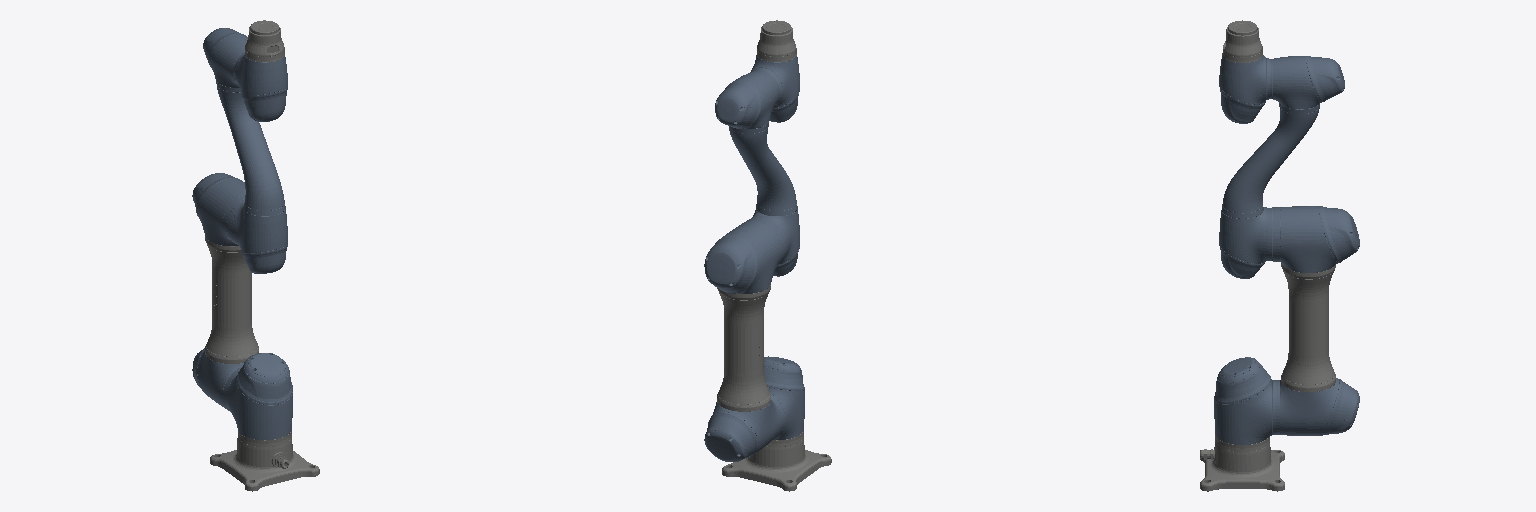
The robot description file, URDF, robot "a0509":
<?xml version="1.0"?>

<robot name="a0509" xmlns:xacro="http://www.ros.org/wiki/xacro">
	<link name="base_0">
		<inertial>
			<mass value="2.198"/>
			<origin xyz="-1e-06   -0.001096    0.058957"/>
			<inertia ixx="0.010511" ixy="4.9786e-06" ixz="7.1839e-06" iyy="0.012033"
				iyz="-2.3529e-05"
				izz="0.012481"/>
		</inertial>
		<visual>
			<origin rpy="0 0 0" xyz="0 0 0" />
			<geometry>
				<mesh filename="meshes/a0509_blue/A0509_0_0.stl" scale="0.001 0.001 0.001" />
			</geometry>
			<material name="dr_gray">
				<color rgba="0.490 0.490 0.486 1.0"/>
			</material>
		</visual>
	</link>

  	<link name="doosan_pedestal">
    	<visual>
      		<origin rpy="1.57079632679 0 -1.57079632679" xyz="0.26 0.345 -0.91488"/>
      		<geometry>
        		<mesh filename="meshes/doosan_pedestal/pedestal.STL"/>
      		</geometry>
      		<material name="darkgray">
        		<color rgba=".2 .2 .2 1"/>
      		</material>
    	</visual>
    	<collision>
      		<origin rpy="0 0 0" xyz="-0.02 0 -0.29"/>
			<geometry>
      		  	<cylinder length="0.62" radius="0.18"/>
      		</geometry>
    	</collision>
    	<inertial>
      		<origin rpy="0 0 0" xyz="0 0 -0.5"/>
      		<mass value="60.86397744"/>
      		<inertia ixx="5.0635929" ixy="0.00103417" ixz="0.80199628" iyy="6.08689388" iyz="0.00105311" izz="4.96191932"/>
		</inertial>
  	</link>

	<joint name="doosan_pedestal_fixed" type="fixed">
		<origin rpy="0 0 0" xyz="0.0 0.0 0.0"/>
		<parent link="base_0"/>
		<child link="doosan_pedestal"/>
	</joint>  

	<link name="doosan_controller_box">
		<collision>
		<origin rpy="0 0 0" xyz="-0.325 0 -0.38"/>
		<geometry>
			<box size="0.22 0.4 0.53"/>
		</geometry>
		</collision>
	</link>

	<joint name="doosan_controller_box_fixed" type="fixed">
		<origin rpy="0 0 0" xyz="0.0 0.0 0.0"/>
		<parent link="base_0"/>
		<child link="doosan_controller_box"/>
	</joint>

	<link name="doosan_pedestal_feet">
		<collision>
		<origin rpy="0 0 0" xyz="-0.1225 0 -0.758"/>
		<geometry>
			<box size="0.77 0.7 0.31"/>
		</geometry>
		</collision>
	</link>

	<joint name="doosan_pedestal_feet_fixed" type="fixed">
		<origin rpy="0 0 0" xyz="0.0 0.0 0.0"/>
		<parent link="base_0"/>
		<child link="doosan_pedestal_feet"/>
	</joint>
  
	<!-- joint 1 -->
	<joint name="joint1" type="revolute">
		<parent link="base_0" />
		<child link="link1" />
		<origin rpy="0 0 0" xyz="0 0 0.1555" />
		<axis xyz="0 0 1" />
		<limit effort="194" lower="-6.2832" upper="6.2832" velocity="3.1416"/>
		<dynamics friction="0" />
	</joint>
	<link name="link1">
		<inertial>
			<mass value="3.715"/>
			<origin xyz="-6.9e-05    0.024423   -0.007375"/>
			<inertia ixx="0.01899" ixy="7.8574e-07" ixz="1.865e-05" iyy="0.013731" iyz="-0.00072828"
				izz="0.01686"/>
		</inertial>
		<collision>
			<geometry>
				<cylinder radius="0.08" length="0.2"/>
			</geometry>
		</collision>
		<visual>
			<origin rpy="0 0 0" xyz="0 0 0" />
			<geometry>
				<mesh filename="meshes/a0509_blue/A0509_1_0.stl" scale="0.001 0.001 0.001" />
			</geometry>
			<material name="dr_navy">
				<color rgba="0.396 0.447 0.513 1" />
			</material>
		</visual>
		<visual>
			<origin rpy="0 0 0" xyz="0 0 0" />
			<geometry>
				<mesh filename="meshes/a0509_blue/A0509_1_1.stl" scale="0.001 0.001 0.001" />
			</geometry>
			<material name="dr_navy">
				<color rgba="0.396 0.447 0.513 1" />
			</material>
		</visual>
		<visual>
			<origin rpy="0 0 0" xyz="0 0 0" />
			<geometry>
				<mesh filename="meshes/a0509_blue/A0509_1_2.stl" scale="0.001 0.001 0.001" />
			</geometry>
			<material name="dr_navy">
				<color rgba="0.396 0.447 0.513 1" />
			</material>
		</visual>

	</link>
	<!-- joint2 -->
	<joint name="joint2" type="revolute">
		<parent link="link1" />
		<child link="link2" />
		<origin rpy="0 -1.571 -1.571" xyz="0 0 0" />
		<axis xyz="0 0 1" />
		<limit effort="194" lower="-6.2832" upper="6.2832" velocity="3.1416"/>
		<dynamics friction="0" />
	</joint>
	<link name="link2">
		<inertial>
			<mass value="6.837"/>
			<origin xyz="0.20449 -1.2521e-17     0.13271"/>
			<inertia ixx="0.019399" ixy="0.00010317" ixz="4.2985e-06" iyy="0.25627" iyz="5.1674e-06"
				izz="0.25442"/>
		</inertial>
		<collision>
			<origin rpy="0 -1.571 0" xyz="0.2 0 0.1525" />
			<geometry>
				<cylinder radius="0.08" length="0.5"/>
			</geometry>
		</collision>
		<visual>
			<origin rpy="0 0 0" xyz="0 0 0" />
			<geometry>
				<mesh filename="meshes/a0509_blue/A0509_2_0.stl" scale="0.001 0.001 0.001" />
			</geometry>
			<material name="dr_navy">
				<color rgba="0.396 0.447 0.513 1" />
			</material>
		</visual>
		<visual>
			<origin rpy="0 0 0" xyz="0 0 0" />
			<geometry>
				<mesh filename="meshes/a0509_blue/A0509_2_1.stl" scale="0.001 0.001 0.001" />
			</geometry>
			<material name="dr_gray">
				<color rgba="0.490 0.490 0.486 1.0"/>
			</material>
		</visual>
		<visual>
			<origin rpy="0 0 0" xyz="0 0 0" />
			<geometry>
				<mesh filename="meshes/a0509_blue/A0509_2_2.stl" scale="0.001 0.001 0.001" />
			</geometry>
			<material name="dr_navy">
				<color rgba="0.396 0.447 0.513 1" />
			</material>
		</visual>
	</link>
	<!-- joint3 -->
	<joint name="joint3" type="revolute">
		<parent link="link2" />
		<child link="link3" />
		<origin rpy="0 0 1.571" xyz="0.409 0 0" />
		<axis xyz="0 0 1" />
		<limit effort="163" lower="-2.7925" upper="2.7925" velocity="3.1416"/>
		<dynamics friction="0" />
	</joint>
	<link name="link3">
		<inertial>
			<mass value="2.769"/>
			<origin xyz="7.1e-05   -0.005123    0.033009"/>
			<inertia ixx="0.012526" ixy="-7.1869e-06" ixz="1.3345e-05" iyy="0.013868"
				iyz="-0.00047287"
				izz="0.0088186"/>
		</inertial>
		<visual>
			<origin rpy="0 0 0" xyz="0 0 0" />
			<geometry>
				<mesh filename="meshes/a0509_blue/A0509_3_0.stl" scale="0.001 0.001 0.001" />
			</geometry>
			<material name="dr_navy">
				<color rgba="0.396 0.447 0.513 1" />
			</material>
		</visual>
		<visual>
			<origin rpy="0 0 0" xyz="0 0 0" />
			<geometry>
				<mesh filename="meshes/a0509_blue/A0509_3_1.stl" scale="0.001 0.001 0.001" />
			</geometry>
			<material name="dr_navy">
				<color rgba="0.396 0.447 0.513 1" />
			</material>
		</visual>
	</link>
	<!-- joint4 -->
	<joint name="joint4" type="revolute">
		<parent link="link3" />
		<child link="link4" />
		<origin rpy="1.571 0 0" xyz="0 -0.367 0" />
		<axis xyz="0 0 1" />
		<limit effort="50" lower="-6.2832" upper="6.2832" velocity="6.2832"/>
		<dynamics friction="0" />
	</joint>
	<link name="link4">
		<inertial>
			<mass value="2.679"/>
			<origin xyz="-8.6e-05    0.086348   -0.086031"/>
			<inertia ixx="0.056068" ixy="2.2109e-05" ixz="1.4522e-05" iyy="0.047122" iyz="-0.014997"
				izz="0.013329"/>
		</inertial>
		<collision>
			<origin rpy="-0.55 0 0" xyz="0 0.05 -0.2" />
			<geometry>
				<cylinder radius="0.05" length="0.4"/>
			</geometry>
		</collision>
		<visual>
			<origin rpy="0 0 0" xyz="0 0 0" />
			<geometry>
				<mesh filename="meshes/a0509_blue/A0509_4_0.stl" scale="0.001 0.001 0.001" />
			</geometry>
			<material name="dr_navy">
				<color rgba="0.396 0.447 0.513 1" />
			</material>
		</visual>
		<visual>
			<origin rpy="0 0 0" xyz="0 0 0" />
			<geometry>
				<mesh filename="meshes/a0509_blue/A0509_4_1.stl" scale="0.001 0.001 0.001" />
			</geometry>
			<material name="dr_navy">
				<color rgba="0.396 0.447 0.513 1" />
			</material>
		</visual>
	</link>
	<!-- joint5 -->
	<joint name="joint5" type="revolute">
		<parent link="link4" />
		<child link="link5" />
		<origin rpy="-1.571 0 0" xyz="0 0 0" />
		<axis xyz="0 0 1" />
		<limit effort="50" lower="-6.2832" upper="6.2832" velocity="6.2832"/>
		<dynamics friction="0" />
	</joint>
	<link name="link5">
		<inertial>
			<mass value="2.051"/>
			<origin xyz="9.1e-05   -0.006457    0.015434"/>
			<inertia ixx="0.0090788" ixy="-5.3997e-06" ixz="8.3955e-06" iyy="0.0084721"
				iyz="-0.0001816"
				izz="0.010453"/>
		</inertial>
		<collision>
			<origin rpy="1.571 0 0" xyz="0 0 0" />
			<geometry>
				<cylinder radius="0.06" length="0.15"/>
			</geometry>
		</collision>
		<visual>
			<origin rpy="0 0 0" xyz="0 0 0" />
			<geometry>
				<mesh filename="meshes/a0509_blue/A0509_5_0.stl" scale="0.001 0.001 0.001" />
			</geometry>
			<material name="dr_navy">
				<color rgba="0.396 0.447 0.513 1" />
			</material>
		</visual>
		<visual>
			<origin rpy="0 0 0" xyz="0 0 0" />
			<geometry>
				<mesh filename="meshes/a0509_blue/A0509_5_1.stl" scale="0.001 0.001 0.001" />
			</geometry>
			<material name="dr_navy">
				<color rgba="0.396 0.447 0.513 1" />
			</material>
		</visual>
	</link>
	<!-- joint6 -->
	<joint name="joint6" type="revolute">
		<parent link="link5" />
		<child link="link6" />
		<origin rpy="1.571 0 0" xyz="0 -0.124 0" />
		<axis xyz="0 0 1" />
		<limit effort="50" lower="-6.2832" upper="6.2832" velocity="6.2832"/>
		<dynamics friction="0" />
	</joint>
	<link name="link6">
		<inertial>
			<mass value="0.773"/>
			<origin xyz="-2.2e-05      -7e-06   -0.051746"/>
			<inertia ixx="0.0087483" ixy="7.9428e-06" ixz="1.7034e-06" iyy="0.0078566"
				iyz="9.6857e-06"
				izz="0.0044452"/>
		</inertial>
		<visual>
			<origin rpy="0 0 0" xyz="0 0 0" />
			<geometry>
				<mesh filename="meshes/a0509_blue/A0509_6_0.stl" scale="0.001 0.001 0.001" />
			</geometry>
			<material name="dr_gray">
				<color rgba="0.490 0.490 0.486 1.0"/>
			</material>
		</visual>
	</link>
</robot>

--- What the picture shows (computed from the rendered views, not written in the file) ---
The picture shows the robot from 3 angles, left to right: view 1: azimuth 30°, elevation 25°; view 2: azimuth 150°, elevation 25°; view 3: azimuth 270°, elevation 25°; orthographic projection.
Robot: a0509 — 10 links, 9 joints (6 revolute, 3 fixed); root link base_0; default pose: all joints at 0.
Visible links, largest first — view 1: link2, link4, link1, base_0, link3, link5, link6; view 2: link2, link4, base_0, link1, link5, link3, link6; view 3: link2, link4, link1, base_0, link3, link5, link6.
Link boxes in pixels (x1=…): link2: x1=192, y1=173, x2=258, y2=410; link4: x1=203, y1=28, x2=285, y2=215; link1: x1=223, y1=353, x2=292, y2=439; base_0: x1=210, y1=431, x2=319, y2=491; link3: x1=223, y1=194, x2=287, y2=273; link5: x1=233, y1=52, x2=287, y2=121; link6: x1=245, y1=20, x2=284, y2=61; link2: x1=704, y1=220, x2=781, y2=461; link4: x1=715, y1=70, x2=797, y2=215; base_0: x1=722, y1=431, x2=831, y2=491; link1: x1=764, y1=356, x2=804, y2=439; link5: x1=751, y1=55, x2=799, y2=122; link3: x1=746, y1=209, x2=799, y2=276; link6: x1=757, y1=20, x2=796, y2=61; link2: x1=1280, y1=206, x2=1359, y2=435; link4: x1=1222, y1=56, x2=1344, y2=218; link1: x1=1214, y1=357, x2=1279, y2=444; base_0: x1=1200, y1=435, x2=1284, y2=491; link3: x1=1219, y1=207, x2=1279, y2=278; link5: x1=1219, y1=55, x2=1272, y2=123; link6: x1=1222, y1=20, x2=1262, y2=62.
Size in the robot's own frame: 0.182 by 0.342 by 1.06 metres.
14 mesh visuals loaded from 15 distinct referenced files (14 binary STL); not drawn: 1 (reference not matched to a file when rendering).
